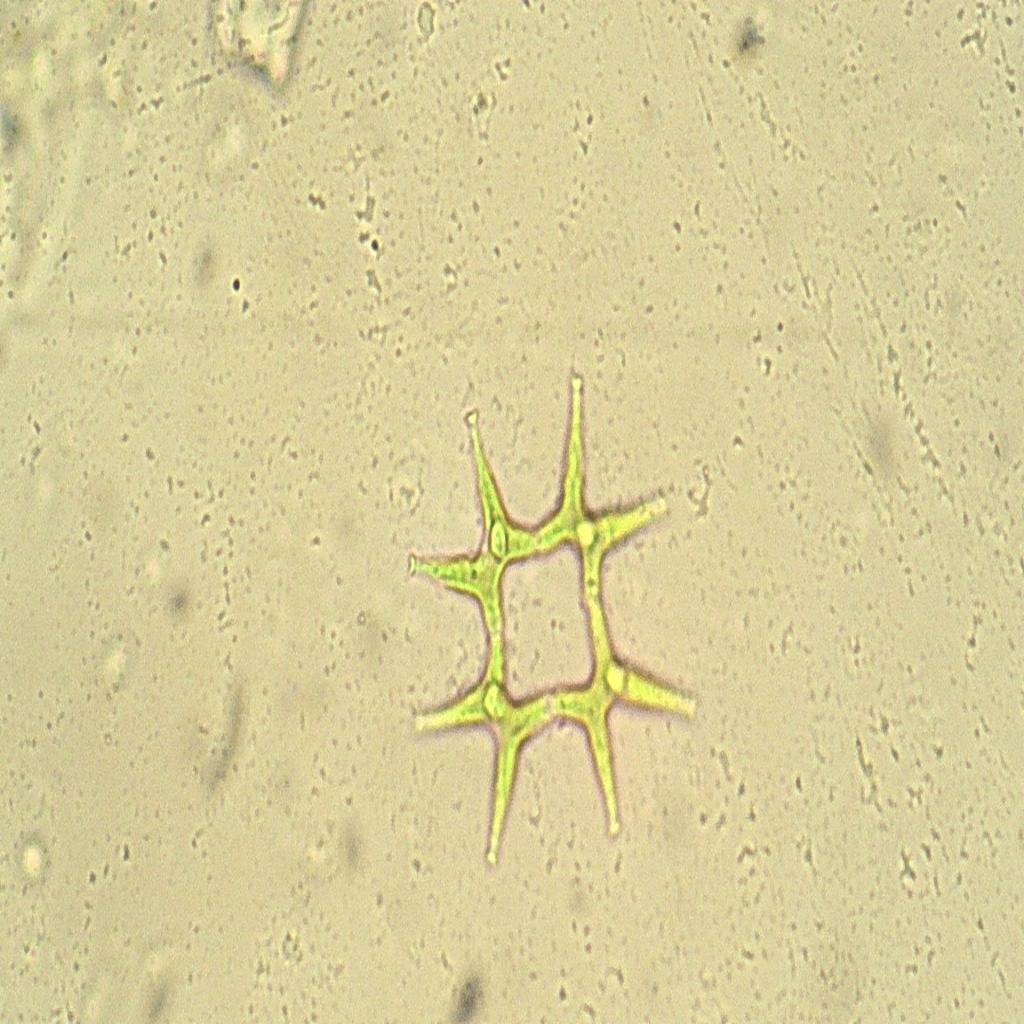Pediastrum_10: (372, 366, 730, 872)
